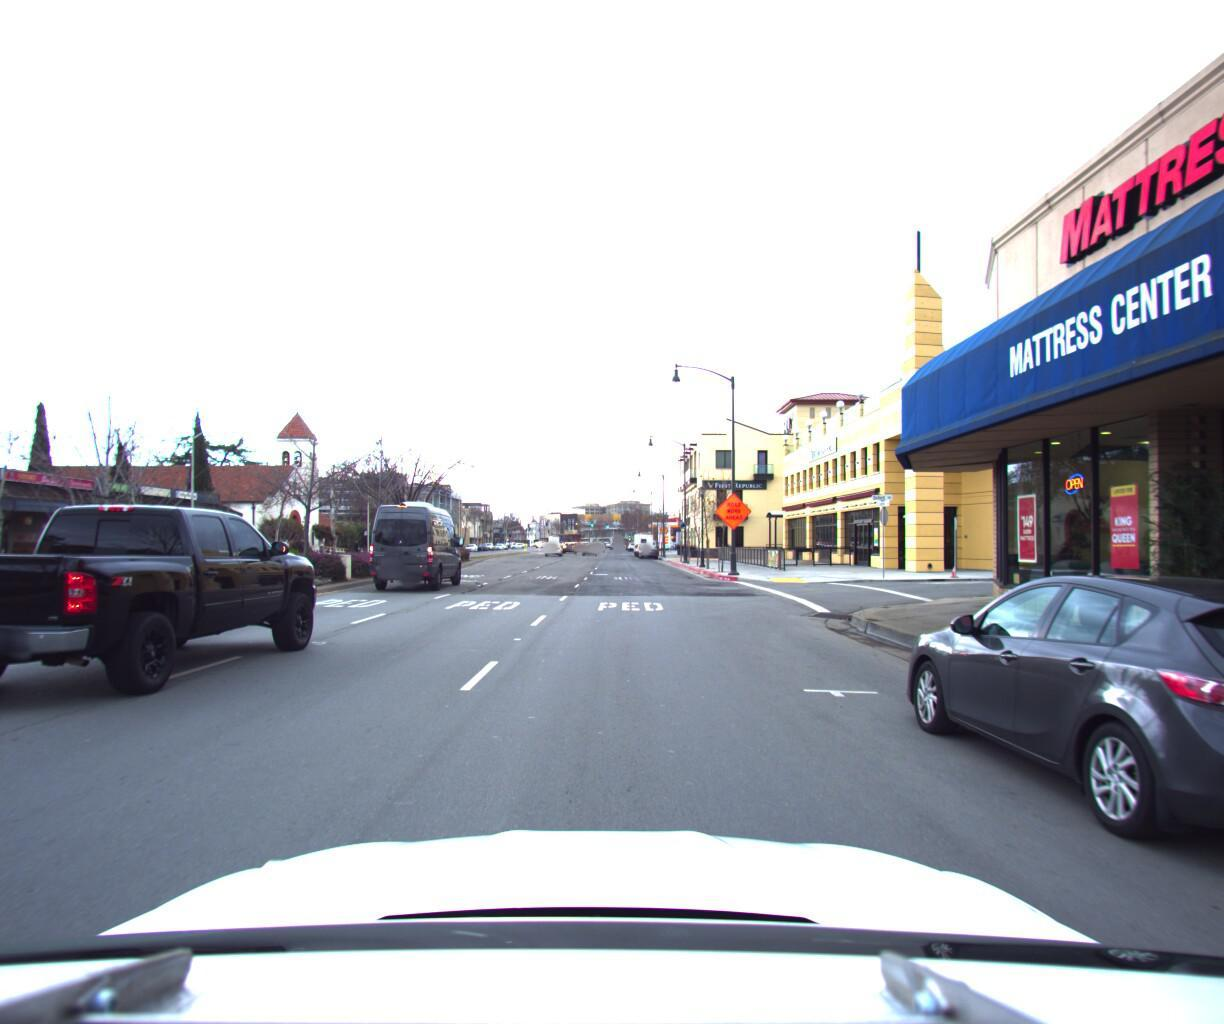car: (878, 557, 1224, 928), (0, 480, 336, 721), (366, 488, 468, 584), (639, 535, 660, 551)
